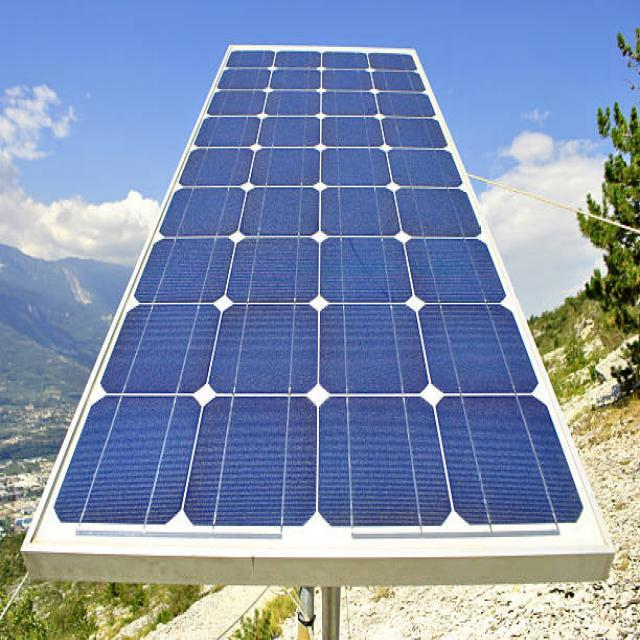no faulty: (24, 45, 613, 554)
